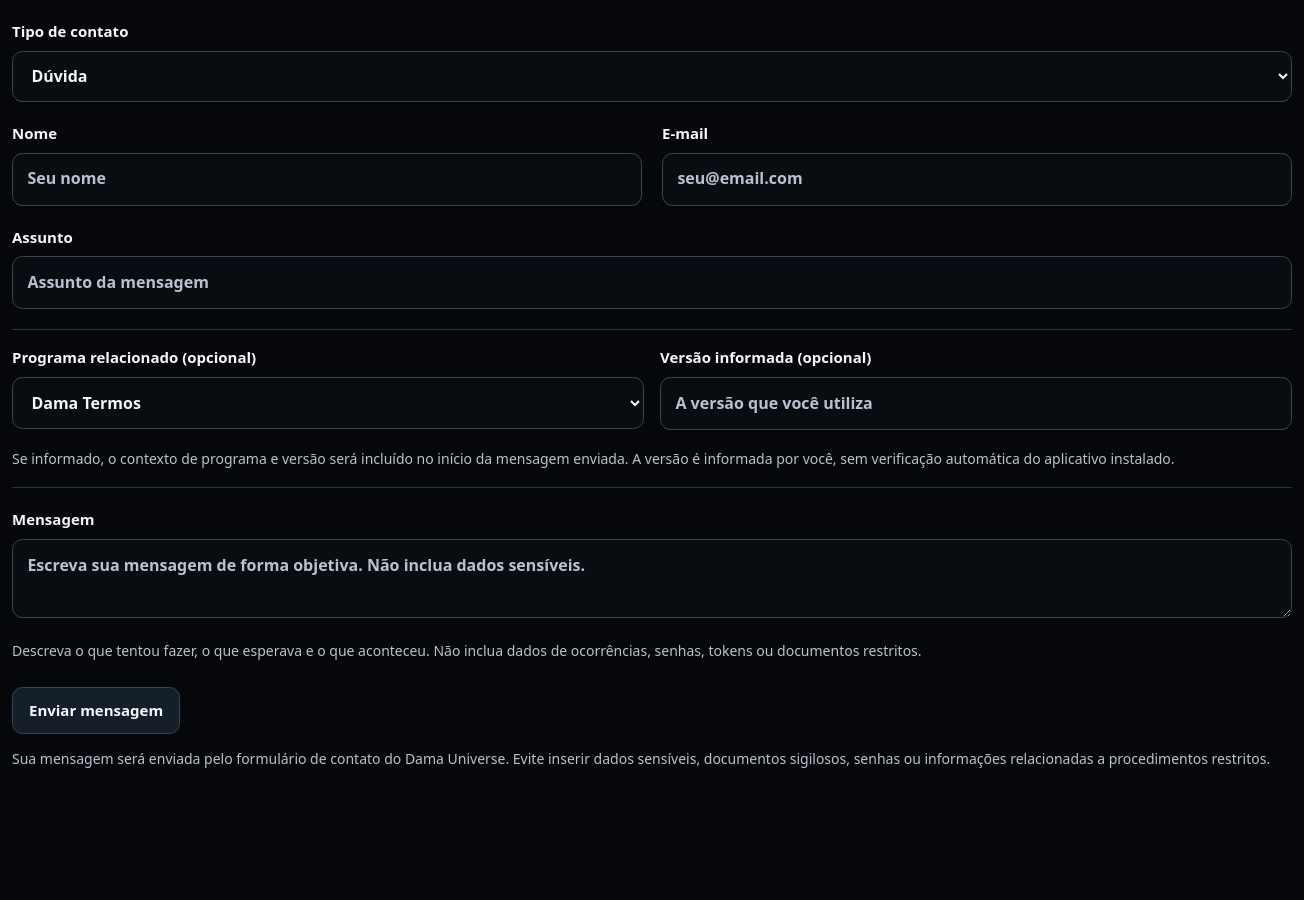
Test: contato contextual — PAGINAS-003 › mantém programa, versão e mensagem em erro HTTP, sem anunciar sucesso
In the field labelled "Nome": point(327, 179) [12,153,642,206], type "Pessoa de teste"
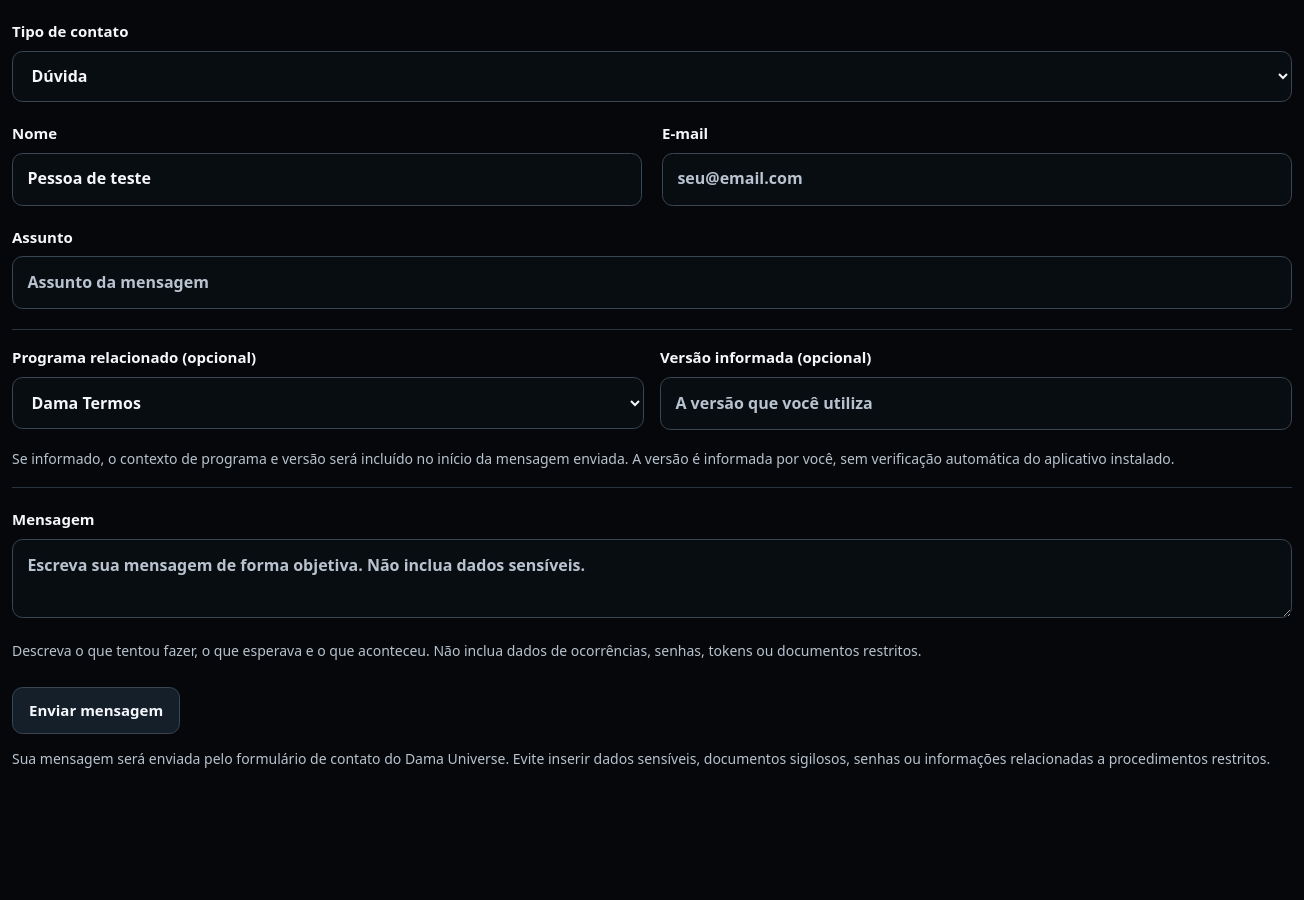
In the field labelled "E-mail": point(977, 179) [662,153,1292,206], type "teste@example.com"
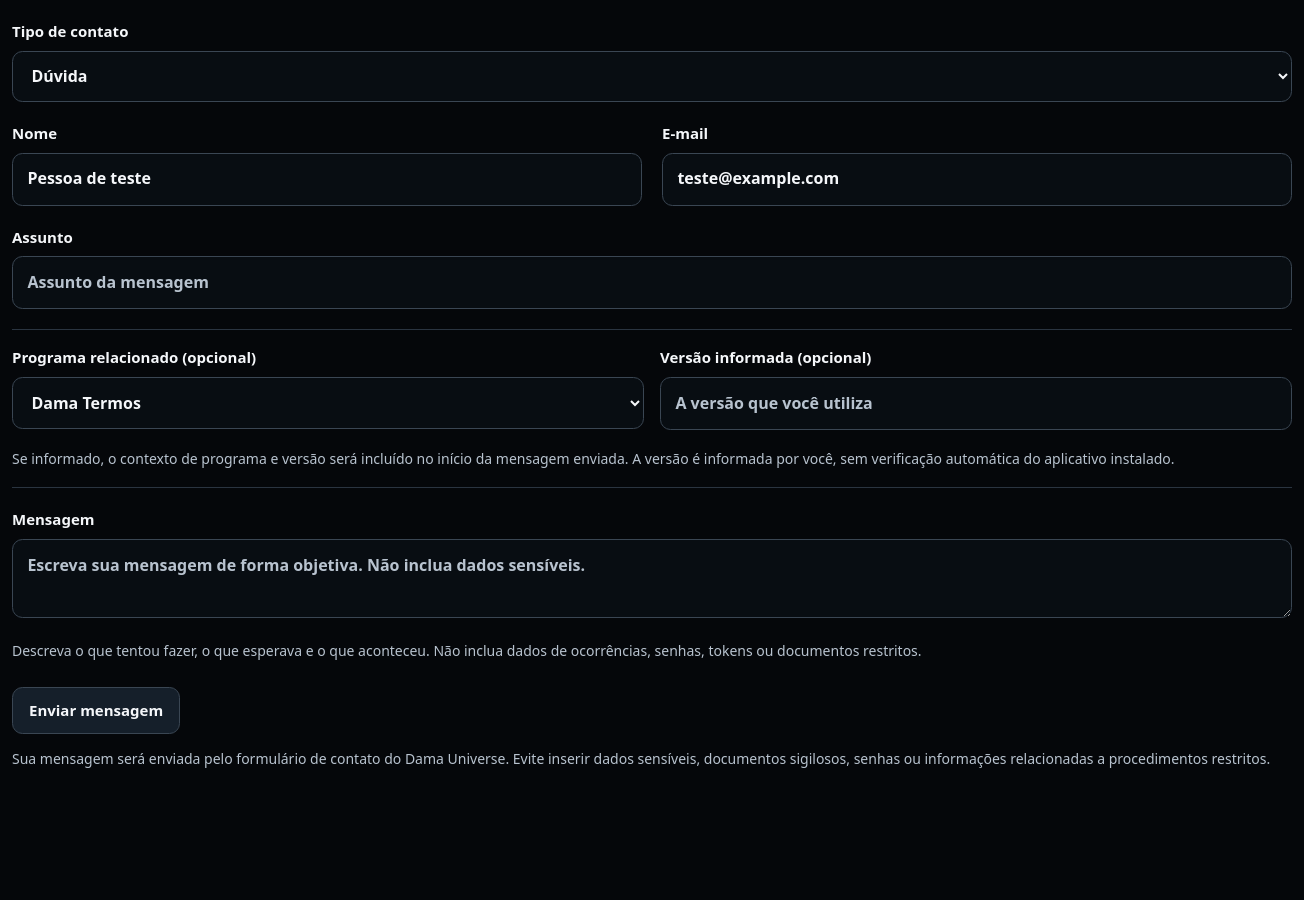
In the field labelled "Assunto": point(652, 283) [12,256,1292,310], type "Teste de contexto"
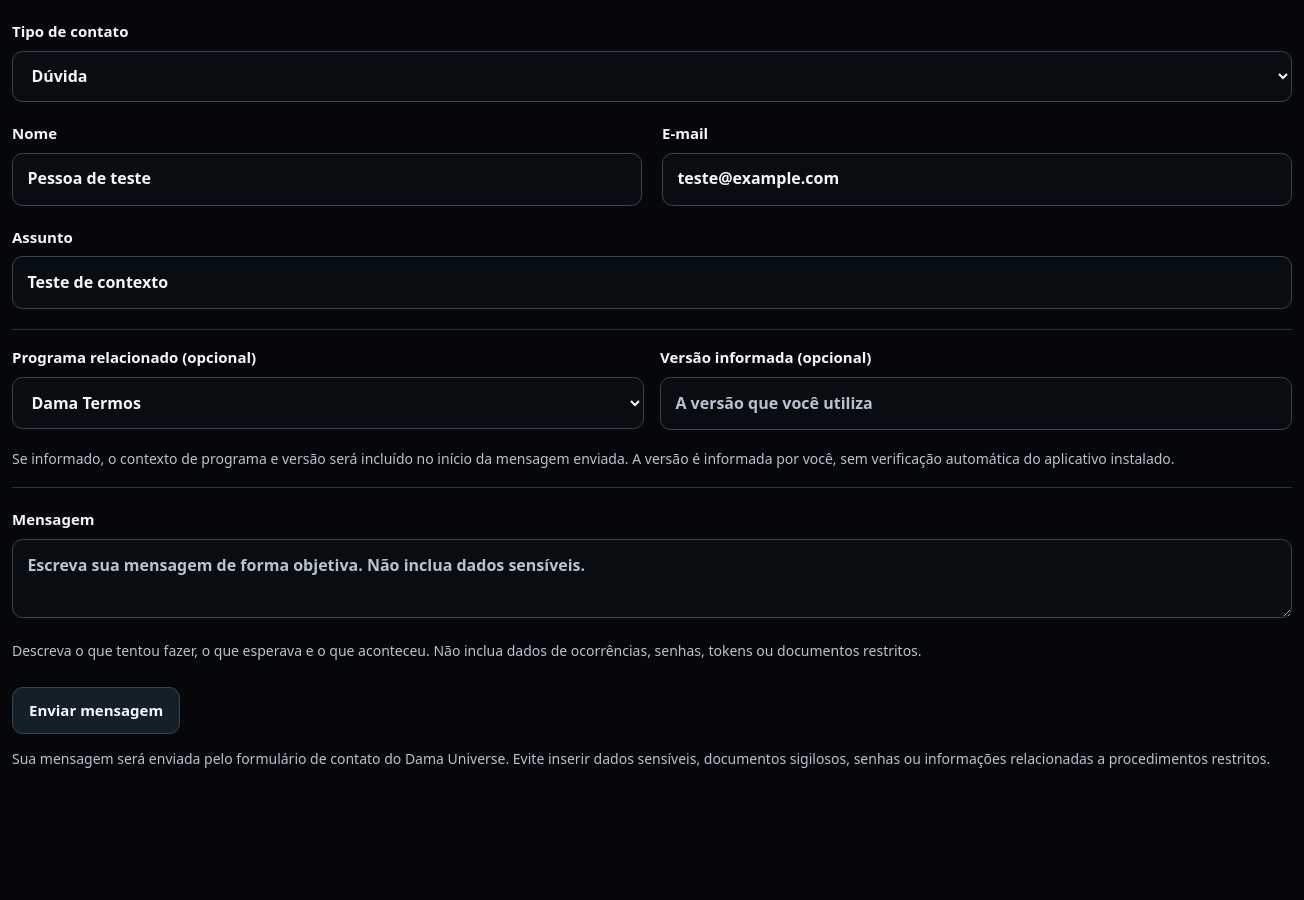
Replace the text in the text box labelled "Mensagem" with "Mensagem inteiramente fictícia para teste local.": point(652, 578) [12,539,1292,618]
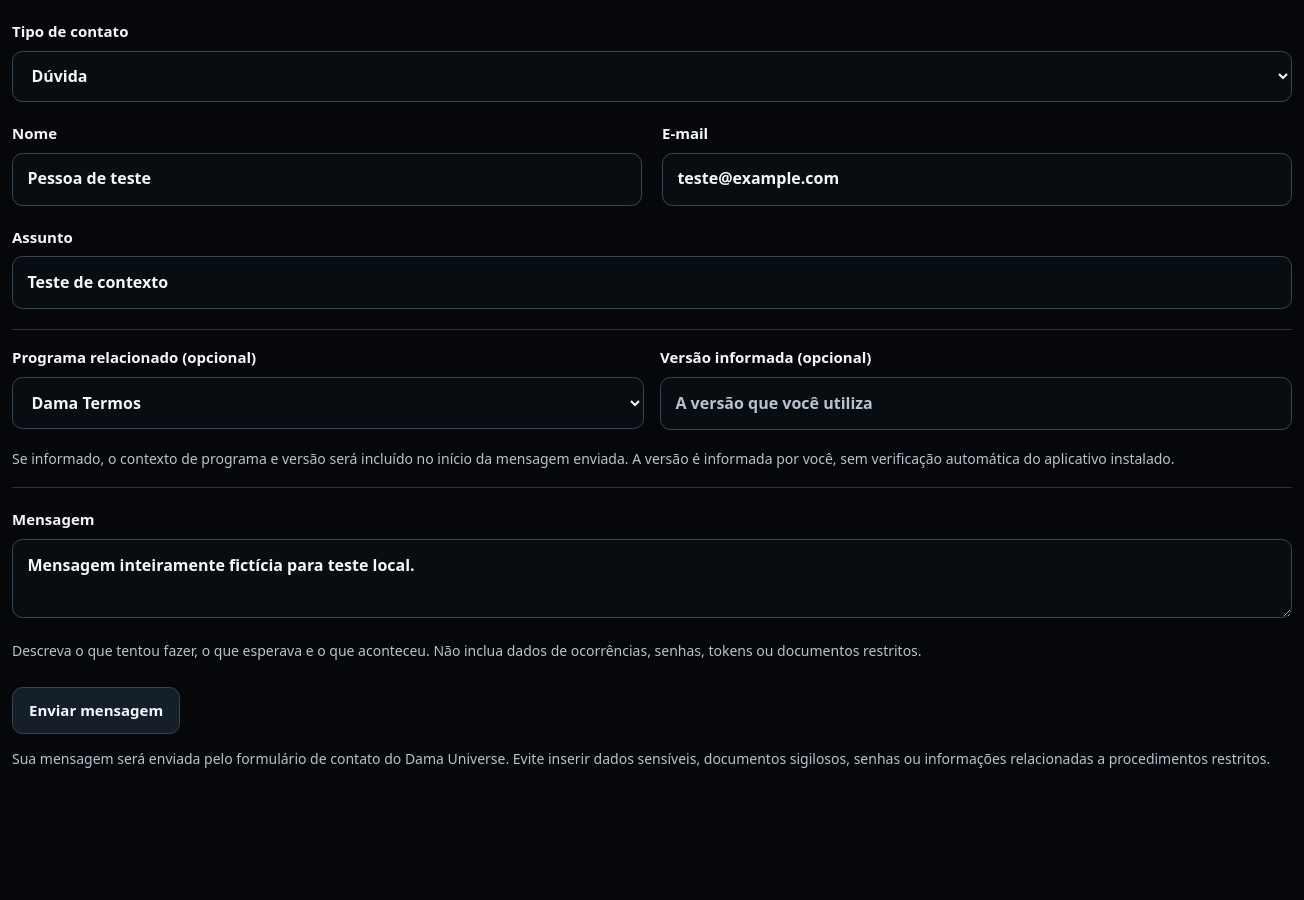
In the field labelled "Versão informada (opcional)": point(976, 404) [660,377,1292,430], type "Versão fictícia"
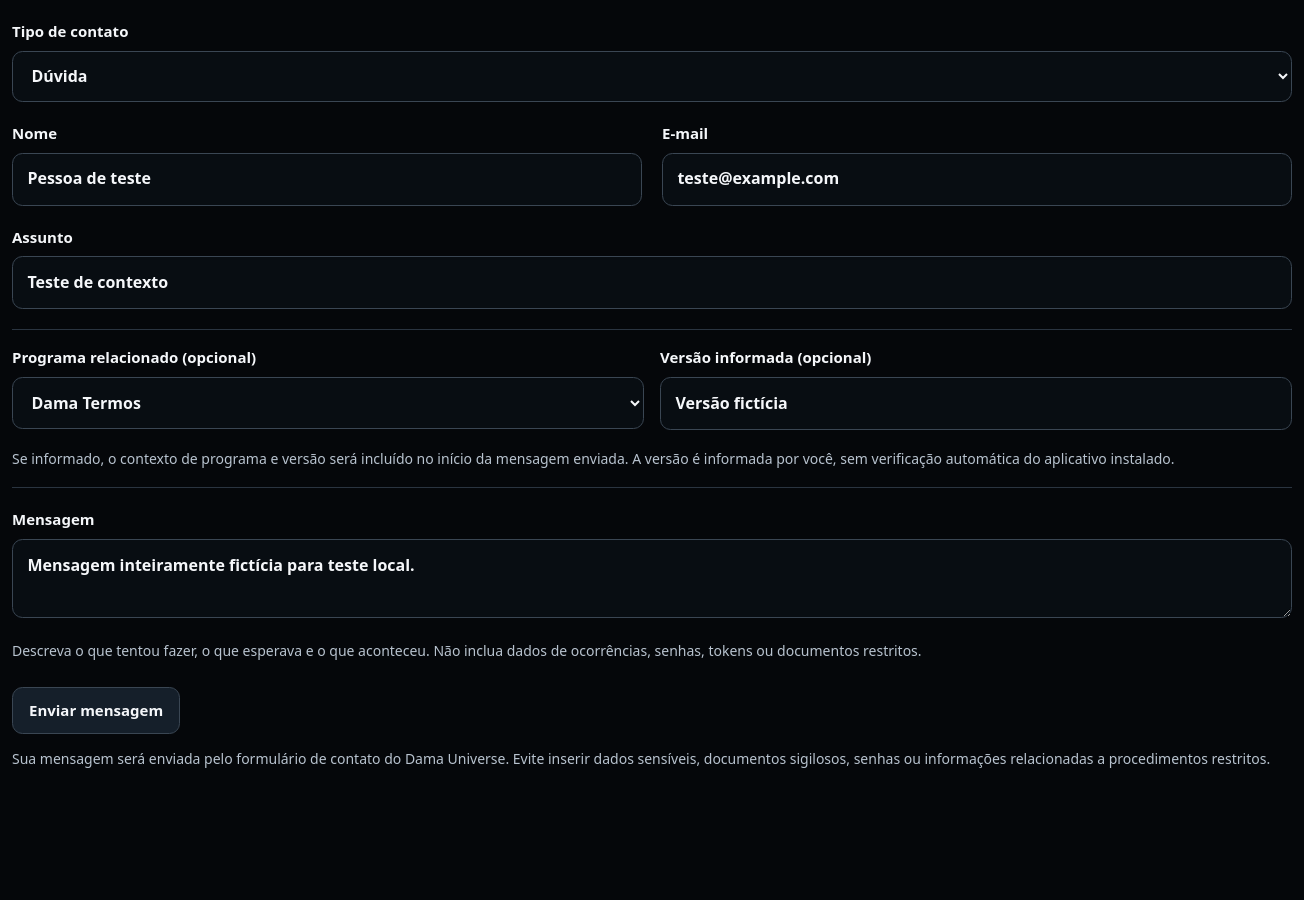
Click the button "Enviar mensagem": point(96, 710) [12,687,180,734]
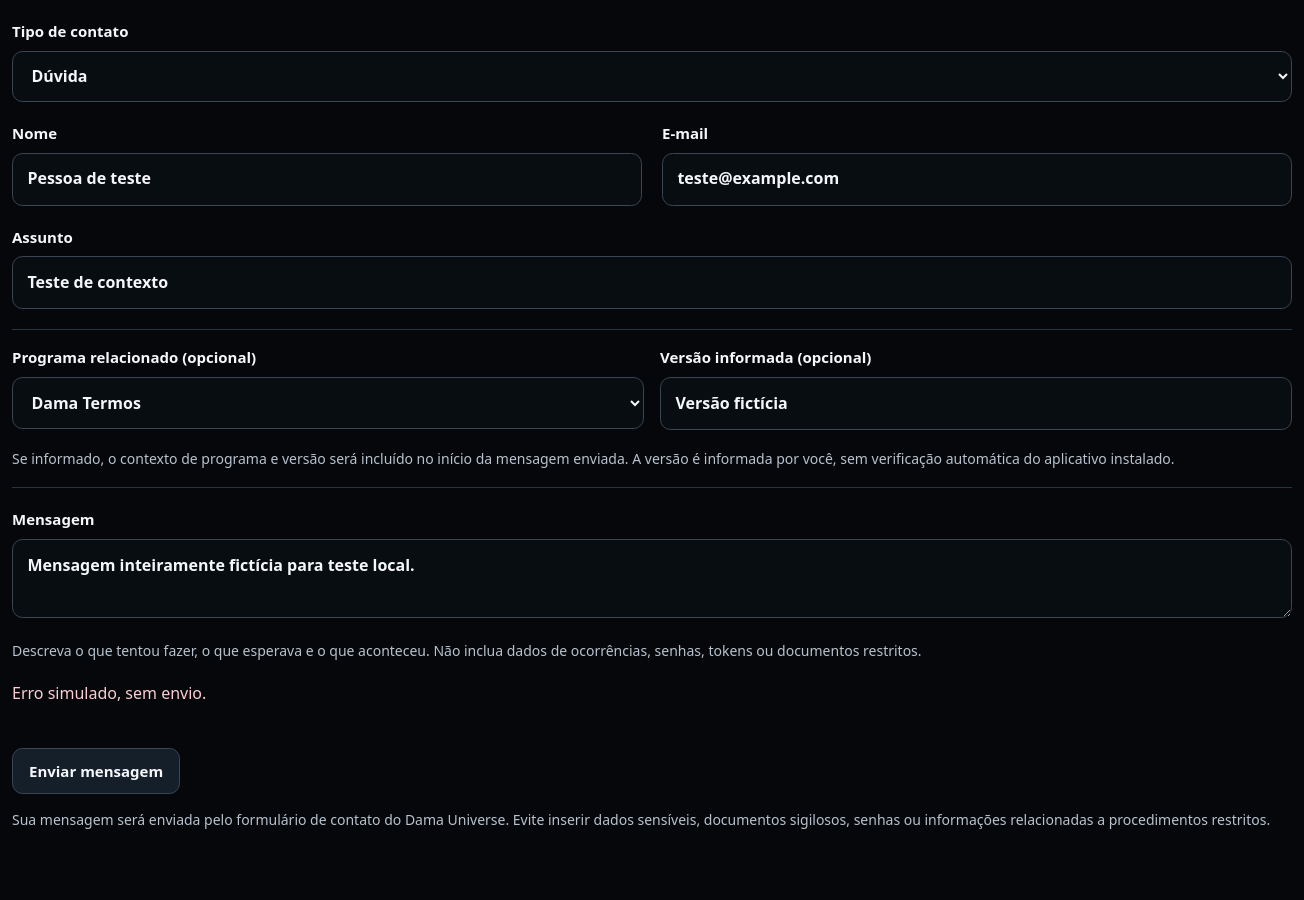
Check: the dropdown labelled "Programa relacionado (opcional)" shows "Dama Termos", box [12,377,644,429]
Check: the message shows "Erro simulado", box [12,682,206,704]
